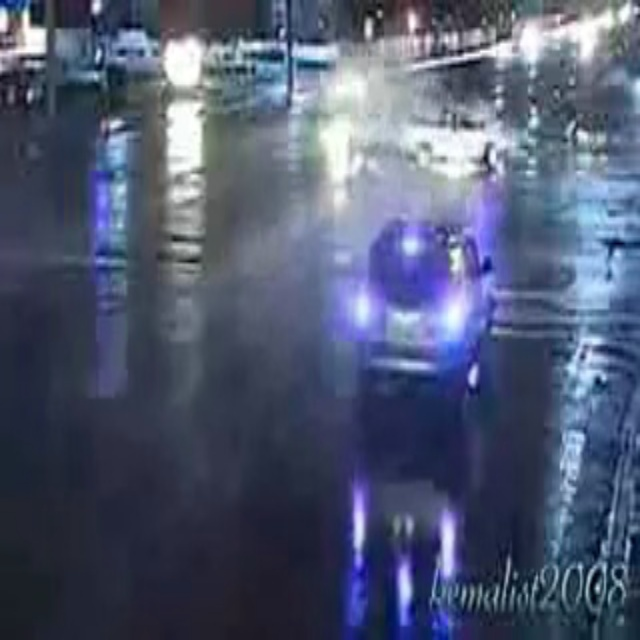acc: (331, 67, 507, 179)
